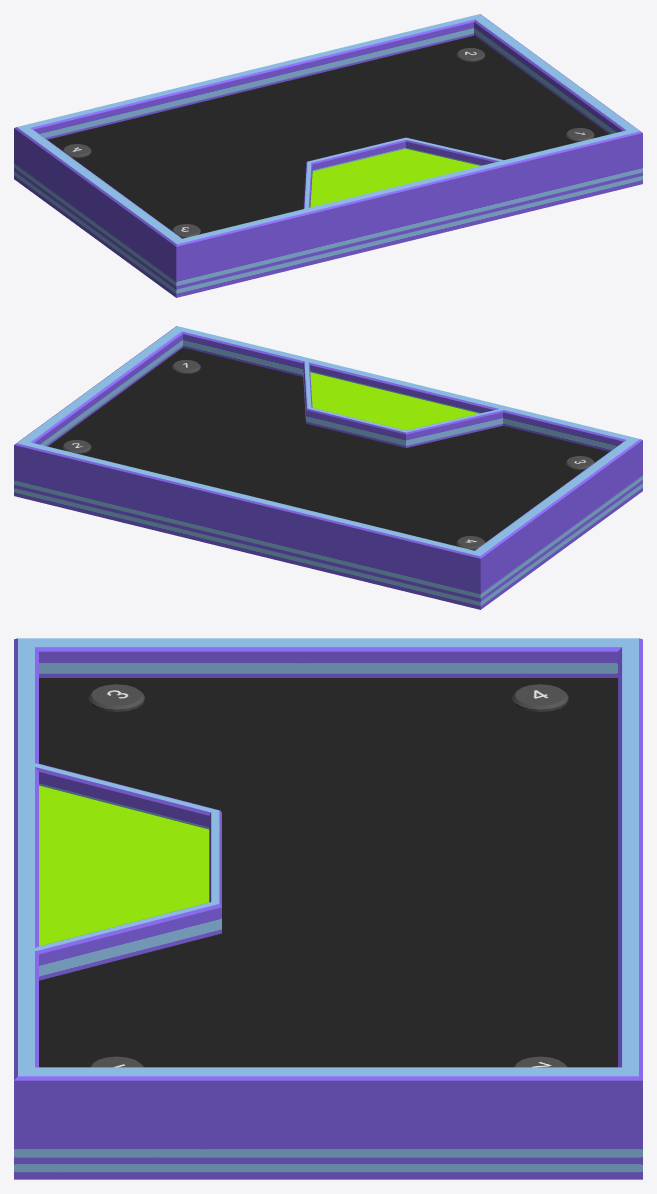
File: arenaPregame01.fbx
3 renders of one model, top to bottom at view 1: azimuth 30°, elevation 25°; view 2: azimuth 150°, elevation 25°; view 3: azimuth 270°, elevation 25°, orthographic. The views are drawn at different scales.
Parts seen in each view (by area): view 1: walls.003, floor.002, dropzoneReadyUp.001, spawn pads.001; view 2: walls.003, floor.002, dropzoneReadyUp.001, spawn pads.001; view 3: floor.002, walls.003, dropzoneReadyUp.001, spawn pads.001.
Boxes of the visible parts, left/top/right/bottom form: walls.003: left=14, top=14, right=642, bottom=297; floor.002: left=47, top=35, right=608, bottom=238; dropzoneReadyUp.001: left=310, top=149, right=479, bottom=207; spawn pads.001: left=62, top=48, right=594, bottom=237; walls.003: left=14, top=326, right=642, bottom=609; floor.002: left=48, top=347, right=609, bottom=550; dropzoneReadyUp.001: left=310, top=372, right=478, bottom=430; spawn pads.001: left=62, top=360, right=594, bottom=549; floor.002: left=39, top=678, right=617, bottom=1067; walls.003: left=14, top=638, right=642, bottom=1179; dropzoneReadyUp.001: left=39, top=785, right=209, bottom=946; spawn pads.001: left=88, top=684, right=568, bottom=1067.
Size of the model in its own units: 467 by 50.18 by 281.
